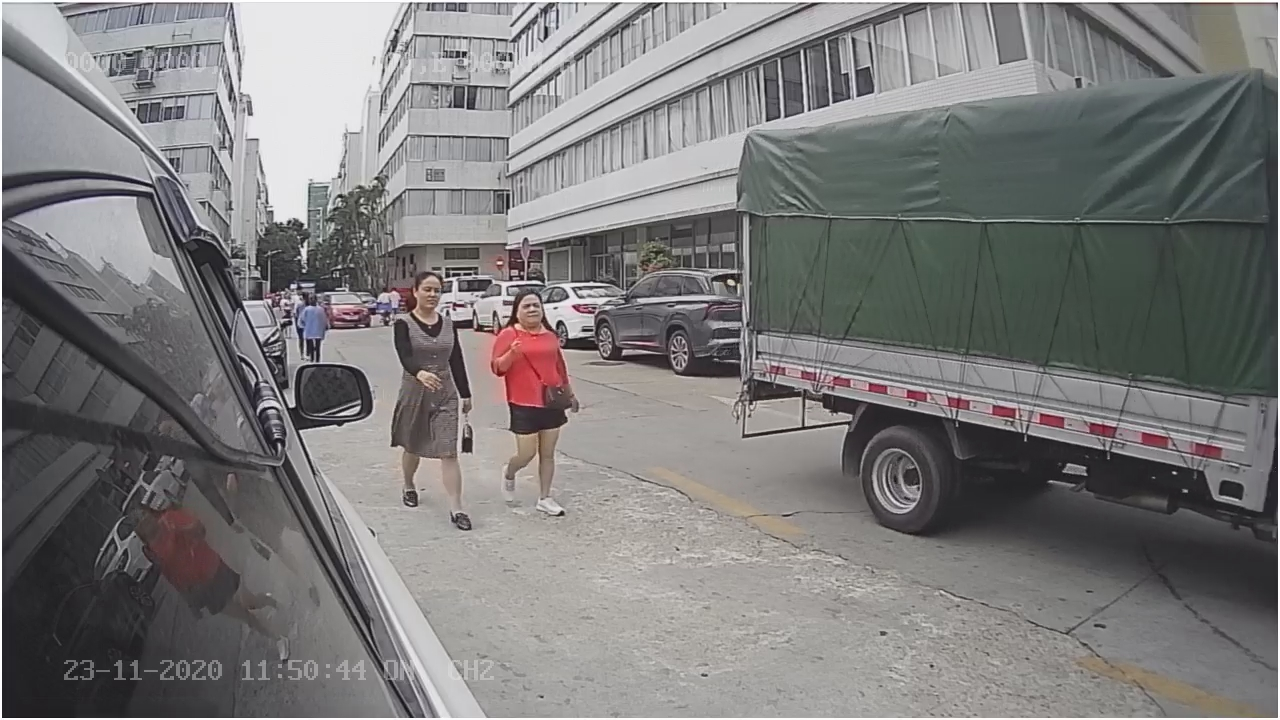person: (383, 269, 482, 532), (493, 290, 579, 516)
